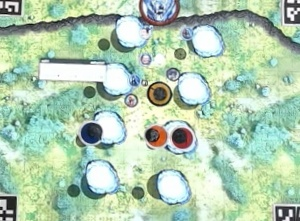blue: (80, 120, 104, 144)
orange: (144, 124, 168, 148)
red: (169, 126, 193, 150)
yellow_night_blue: (146, 82, 169, 106)
